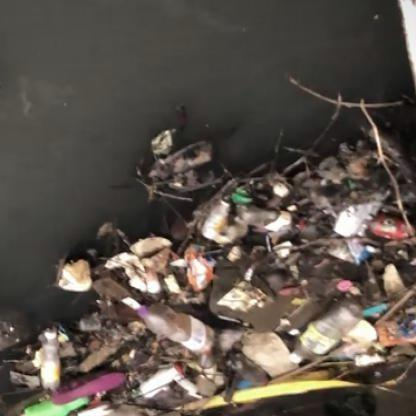Metal: (198, 194, 235, 245)
Plastic: (285, 298, 362, 366), (134, 298, 218, 356), (33, 324, 66, 396)
